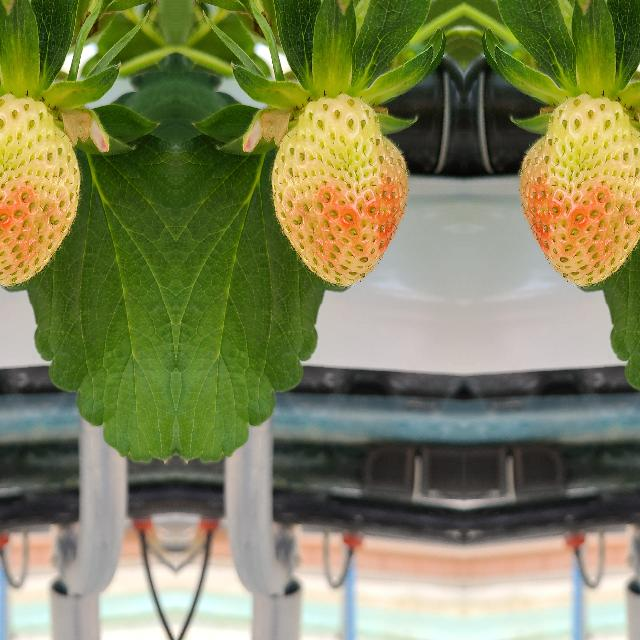Health_50: (268, 95, 410, 288), (516, 94, 640, 287), (0, 94, 82, 287)
